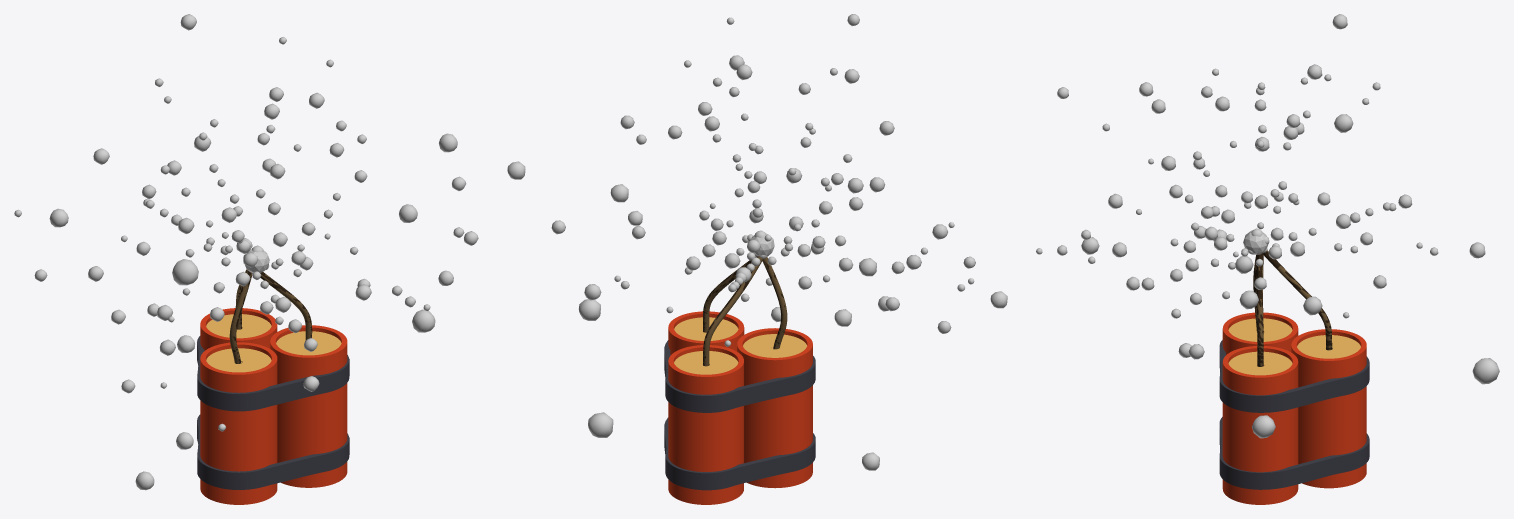
Rendered from dinamite.obj.
3 views of the same model, side by side, from view 1: azimuth 30°, elevation 25°; view 2: azimuth 150°, elevation 25°; view 3: azimuth 270°, elevation 25° (orthographic). The views are drawn at different scales.
Visible parts, largest first — view 1: Círculo.000_bomb, Esfera_icosaédrica.009, Plano, Plano.002; view 2: Círculo.000_bomb, Esfera_icosaédrica.009, Plano, Plano.002, Nurbs_-_Guia_de_caminho.001_Nurbs_-_Guia_de_caminho.000; view 3: Círculo.000_bomb, Esfera_icosaédrica.009, Plano, Nurbs_-_Guia_de_caminho.001_Nurbs_-_Guia_de_caminho.000, Plano.002.
Boxes of the visible parts, x1,y1,x2,y2 form: Círculo.000_bomb: [200, 308, 347, 504]; Esfera_icosaédrica.009: [14, 14, 478, 490]; Plano: [197, 336, 349, 489]; Plano.002: [229, 269, 312, 363]; Círculo.000_bomb: [668, 311, 812, 504]; Esfera_icosaédrica.009: [507, 14, 1007, 470]; Plano: [664, 340, 815, 490]; Plano.002: [703, 256, 787, 366]; Nurbs_-_Guia_de_caminho.001_Nurbs_-_Guia_de_caminho.000: [703, 256, 785, 365]; Círculo.000_bomb: [1222, 312, 1366, 504]; Esfera_icosaédrica.009: [1036, 14, 1499, 438]; Plano: [1219, 340, 1369, 489]; Nurbs_-_Guia_de_caminho.001_Nurbs_-_Guia_de_caminho.000: [1253, 251, 1332, 366]; Plano.002: [1253, 250, 1332, 366].
Size of the model in its own units: 12.8 by 12.19 by 11.74.
Materials: 4 (1 with a texture image).
